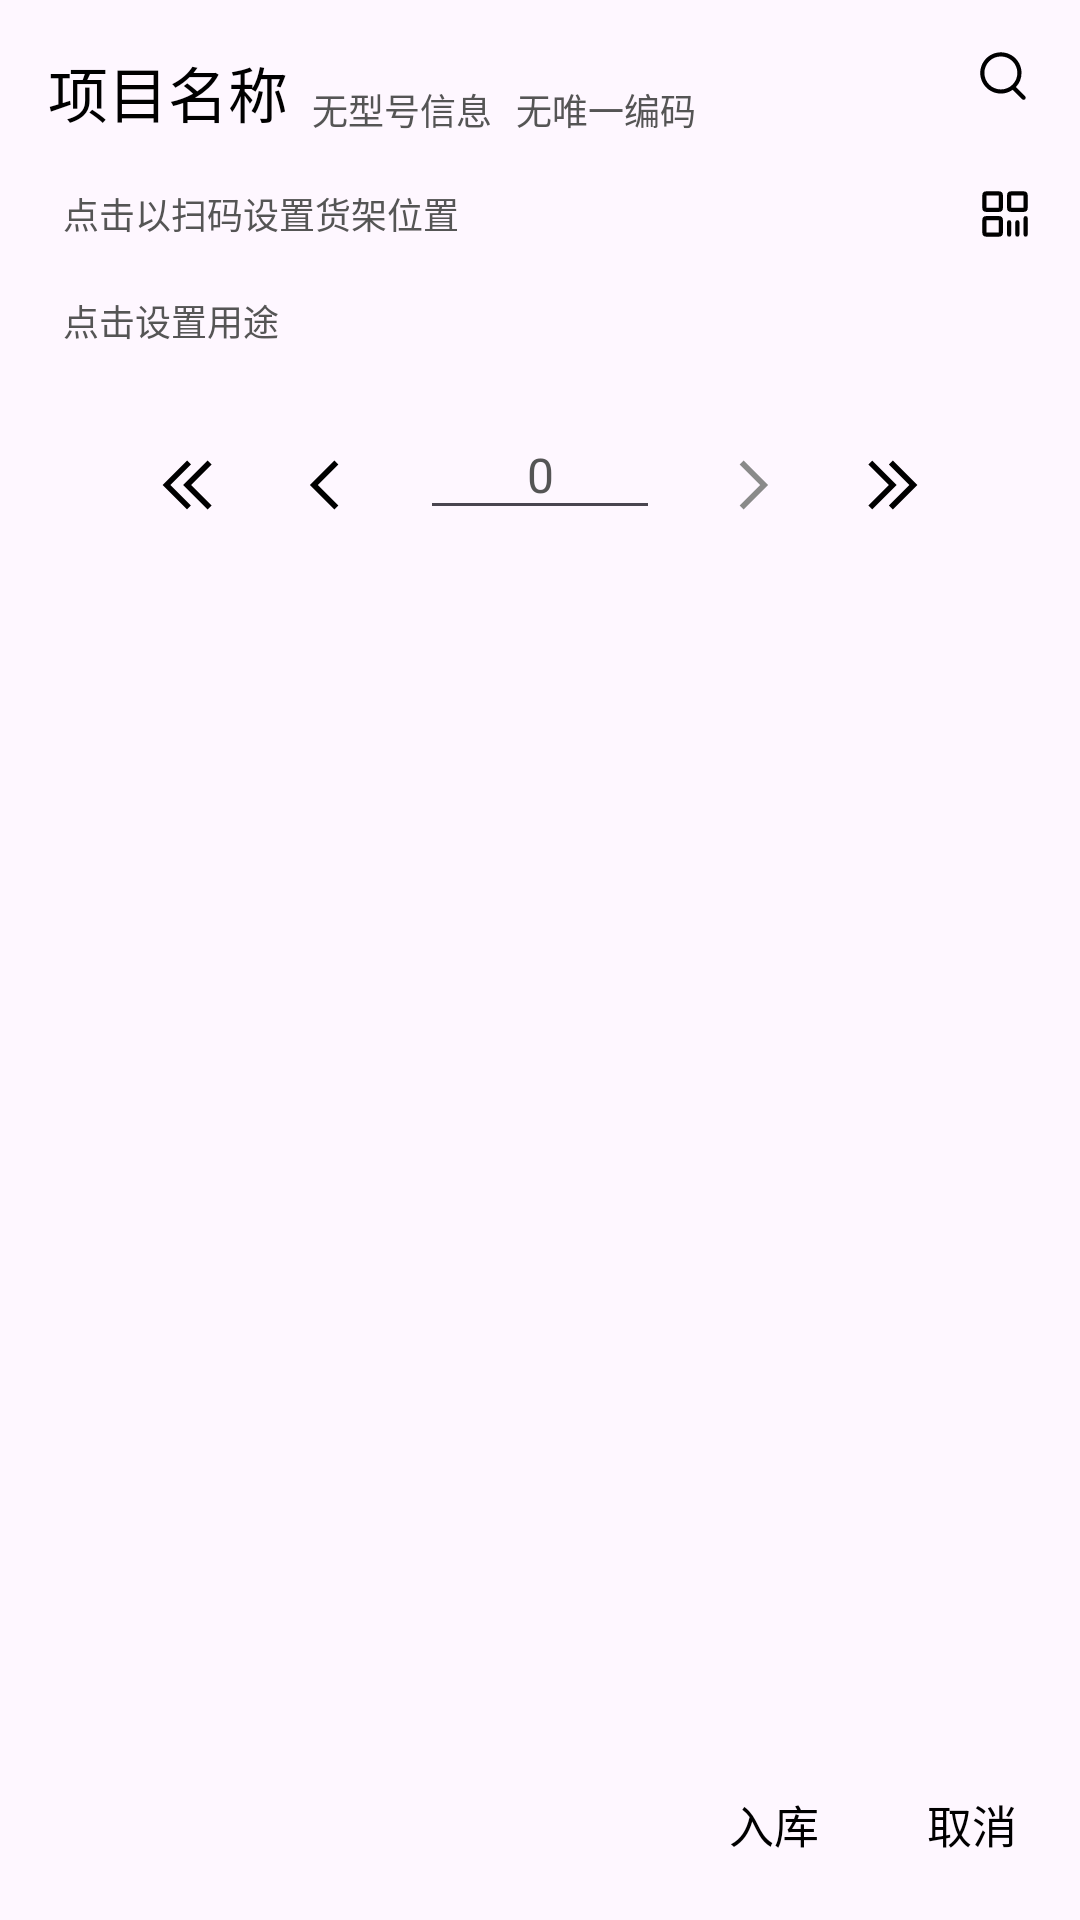

Screen size 1080w x 1920h. Icon name, then its center in pixels as (x=x, y=y):
arrow left: (x=324, y=485)
arrow right: (x=754, y=485)
double arro right: (x=892, y=485)
double arrow left: (x=187, y=485)
qrcode: (x=1005, y=214)
search: (x=1003, y=76)
